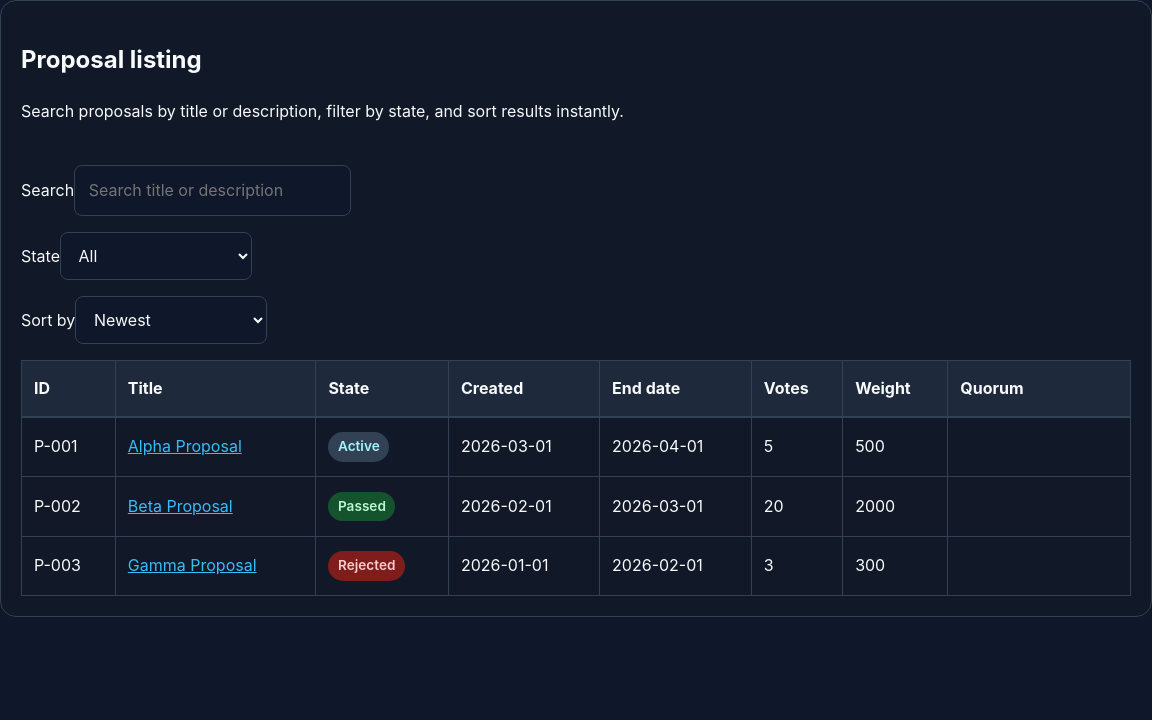
it: ProposalList › filters by search text (title match)
The image size is (1152, 720).
In the search field named "search proposals": (213, 191) [74,165,351,216], type "alpha"
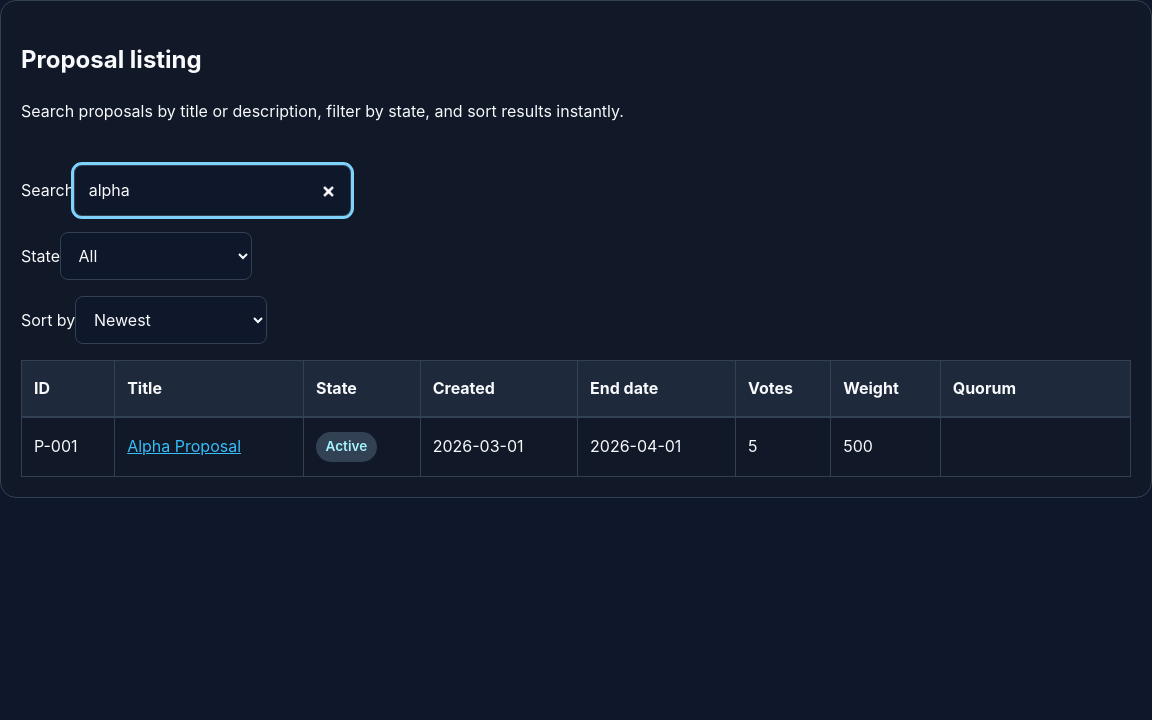
Check: the link "Alpha Proposal" is shown, box [127,436,241,456]
Check: the link "Beta Proposal" is gone
Check: the link "Gamma Proposal" is gone
